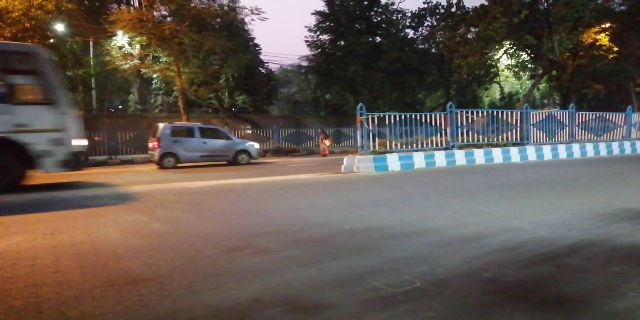Car: (153, 118, 262, 164)
